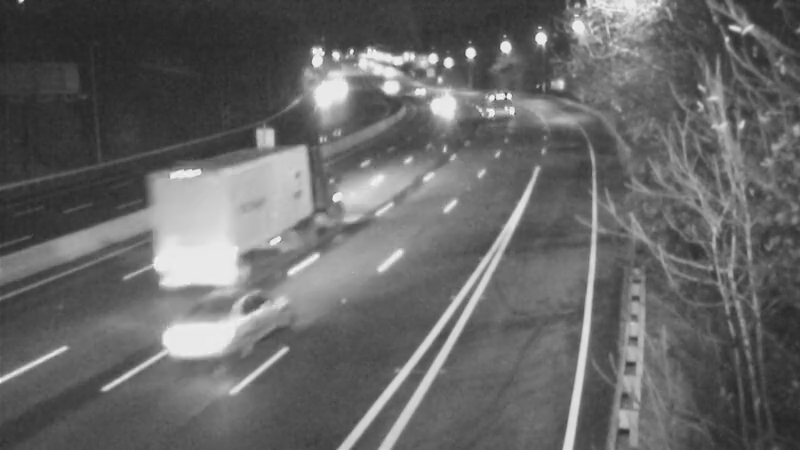vehicle: (150, 280, 260, 390), (179, 167, 259, 247), (362, 61, 412, 111), (393, 67, 443, 117), (468, 83, 518, 133), (418, 82, 468, 132)
